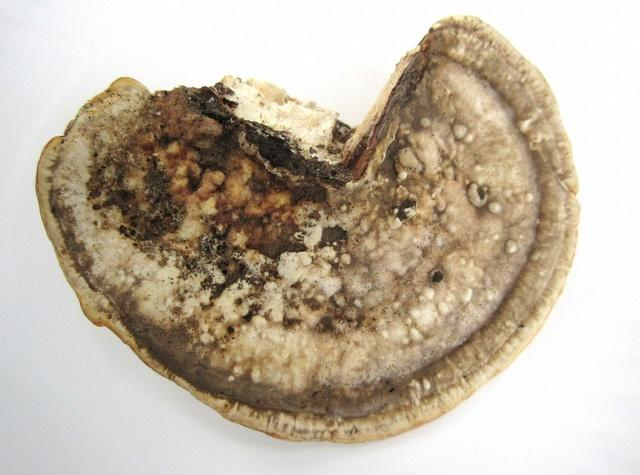poisonous_mushroom: (34, 13, 582, 444)
